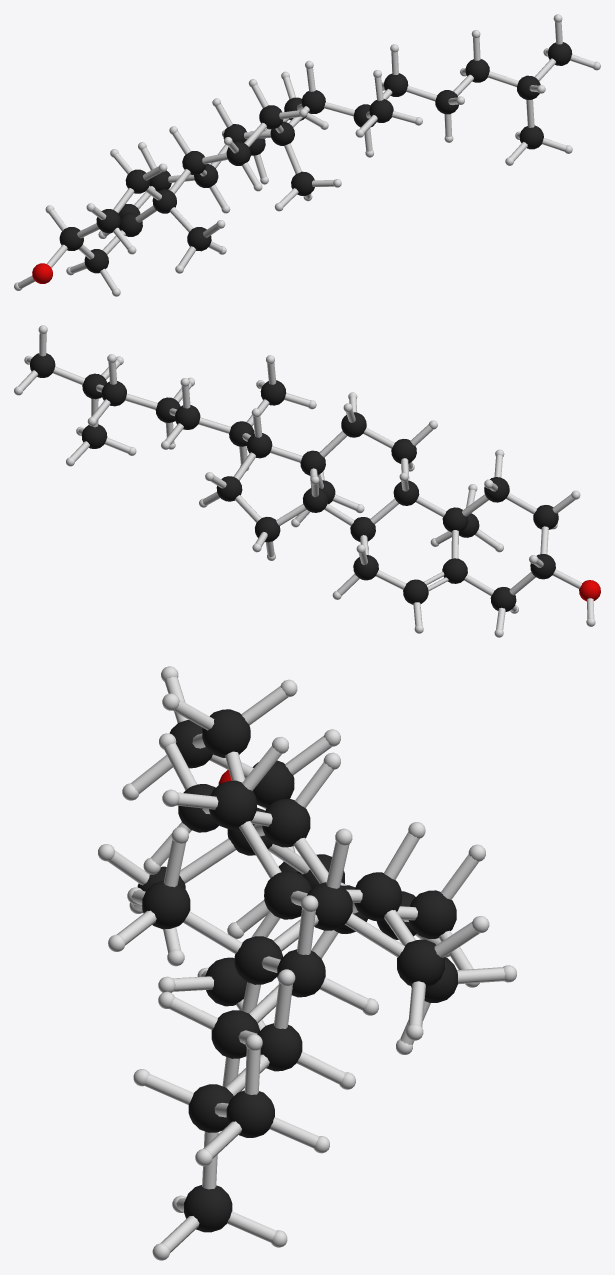
Rendered from cholesterol.fbx.
3 views of the same model, one above another, from view 1: azimuth 30°, elevation 25°; view 2: azimuth 150°, elevation 25°; view 3: azimuth 270°, elevation 25° (orthographic). The views are drawn at different scales.
Visible parts, largest first — view 1: Group1, Group32, Group4, Group9, Group10, Group34, Group3, Group6, Group29, Group28, Group22, Group20 (+8 smaller); view 2: Group19, Group20, Group25, Group27, Group4, Group6, Group3, Group9, Group31, Group1, Group21, Group10 (+13 smaller); view 3: Group29, Group32, Group12, Group18, Group26, Group3, Group1, Group9, Group14, Group7, Group4, Group33 (+13 smaller).
Boxes of the visible parts, x1,y1,x2,y2 form: Group1: [519, 125, 543, 149]; Group32: [259, 105, 283, 129]; Group4: [465, 59, 489, 82]; Group9: [369, 99, 393, 122]; Group10: [301, 90, 325, 113]; Group34: [291, 171, 314, 195]; Group3: [548, 42, 572, 65]; Group6: [384, 73, 408, 96]; Group29: [182, 151, 206, 174]; Group28: [187, 227, 211, 251]; Group22: [59, 227, 83, 250]; Group20: [119, 212, 142, 236]; Group19: [403, 579, 428, 604]; Group20: [442, 558, 467, 583]; Group25: [533, 505, 558, 529]; Group27: [442, 507, 468, 532]; Group4: [101, 381, 126, 406]; Group6: [175, 405, 200, 429]; Group3: [30, 353, 55, 377]; Group9: [260, 380, 286, 405]; Group31: [391, 439, 416, 463]; Group1: [81, 424, 107, 448]; Group21: [490, 587, 516, 611]; Group10: [247, 433, 272, 458]; Group29: [262, 798, 310, 847]; Group32: [209, 780, 256, 829]; Group12: [397, 939, 444, 987]; Group18: [408, 890, 456, 938]; Group26: [202, 709, 250, 757]; Group3: [226, 1090, 274, 1137]; Group1: [184, 1185, 232, 1232]; Group9: [142, 880, 190, 929]; Group14: [354, 872, 401, 920]; Group7: [234, 936, 282, 984]; Group4: [257, 1023, 302, 1071]; Group33: [264, 871, 311, 919].
Bounding box in the file's own units: 1454 × 433 × 467.
